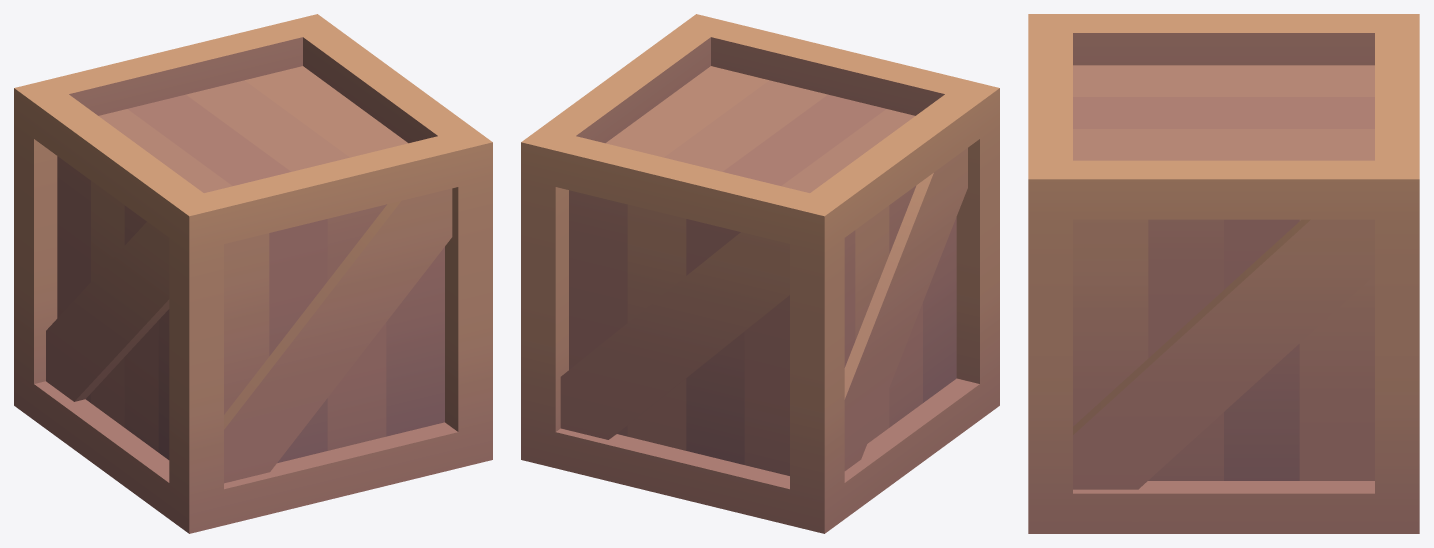
File: Crate_01.fbx
3 renders of one model, left to right at view 1: azimuth 30°, elevation 25°; view 2: azimuth 150°, elevation 25°; view 3: azimuth 270°, elevation 25°, orthographic. The views are drawn at different scales.
Parts seen in each view (by area): view 1: Crate_01; view 2: Crate_01; view 3: Crate_01.
Part boxes in pixels (bbox=[...]): Crate_01: bbox=[14, 14, 492, 533]; Crate_01: bbox=[521, 14, 999, 533]; Crate_01: bbox=[1028, 14, 1419, 533].
Size of the model in its own units: 3.34 by 3.34 by 3.34.
